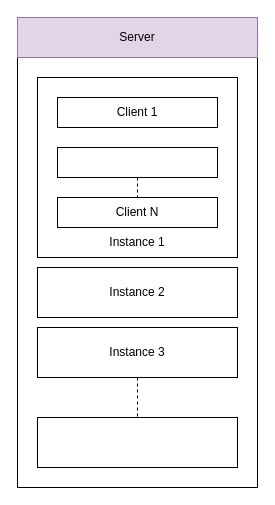
This 275x505 diagram has some shape labels left out. The shapes that lost their labels are listed below. From the top down, each one's centre as x and y in pixels, then its label:
[137,162]: Client 2
[137,442]: Instance N
